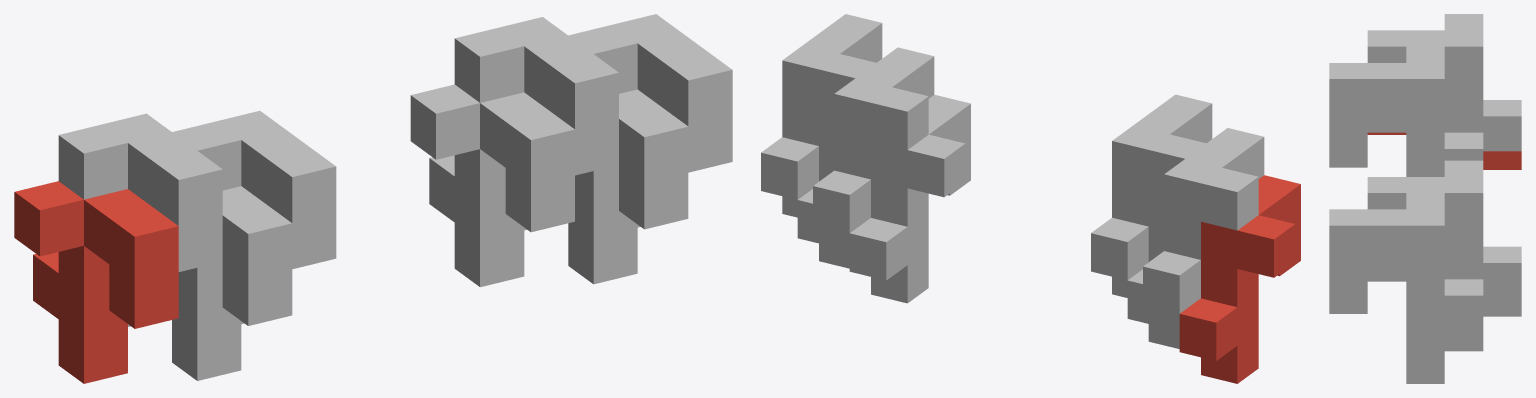
Rendered from tiling.obj.
The picture shows the model from 3 angles, left to right: view 1: azimuth 30°, elevation 25°; view 2: azimuth 150°, elevation 25°; view 3: azimuth 270°, elevation 25°; orthographic projection. The views are drawn at different scales.
Visible parts, largest first — view 1: copy_1_domain_5, copy_1_domain_1, copy_1_domain_2, copy_1_domain_6, copy_1_domain_3, copy_1_domain_7, copy_1_domain_4, copy_1_domain_8; view 2: copy_1_domain_5, copy_1_domain_1, copy_1_domain_3, copy_1_domain_7, copy_1_domain_4, copy_1_domain_8, copy_1_domain_2, copy_1_domain_6; view 3: copy_1_domain_8, copy_1_domain_4, copy_1_domain_3, copy_1_domain_7, copy_1_domain_6, copy_1_domain_2, copy_1_domain_5, copy_1_domain_1.
Boxes of the visible parts, x1,y1,x2,y2 form: copy_1_domain_5: (410,84,574,287); copy_1_domain_1: (14,181,178,383); copy_1_domain_2: (172,186,292,380); copy_1_domain_6: (568,89,688,284); copy_1_domain_3: (58,113,222,326); copy_1_domain_7: (454,17,618,230); copy_1_domain_4: (172,110,336,324); copy_1_domain_8: (568,14,732,227); copy_1_domain_5: (849,94,970,303); copy_1_domain_1: (1179,175,1300,383); copy_1_domain_3: (1143,128,1264,331); copy_1_domain_7: (813,47,934,250); copy_1_domain_4: (1091,94,1212,297); copy_1_domain_8: (761,14,882,217); copy_1_domain_2: (1127,188,1179,348); copy_1_domain_6: (797,108,849,268); copy_1_domain_8: (1329,193,1483,365); copy_1_domain_4: (1329,46,1483,176); copy_1_domain_3: (1367,14,1521,151); copy_1_domain_7: (1367,160,1521,297); copy_1_domain_6: (1329,260,1483,383); copy_1_domain_2: (1329,114,1406,167); copy_1_domain_5: (1367,279,1521,351); copy_1_domain_1: (1367,132,1521,169).
Bounding box in the file's own units: 14 × 5 × 5.
